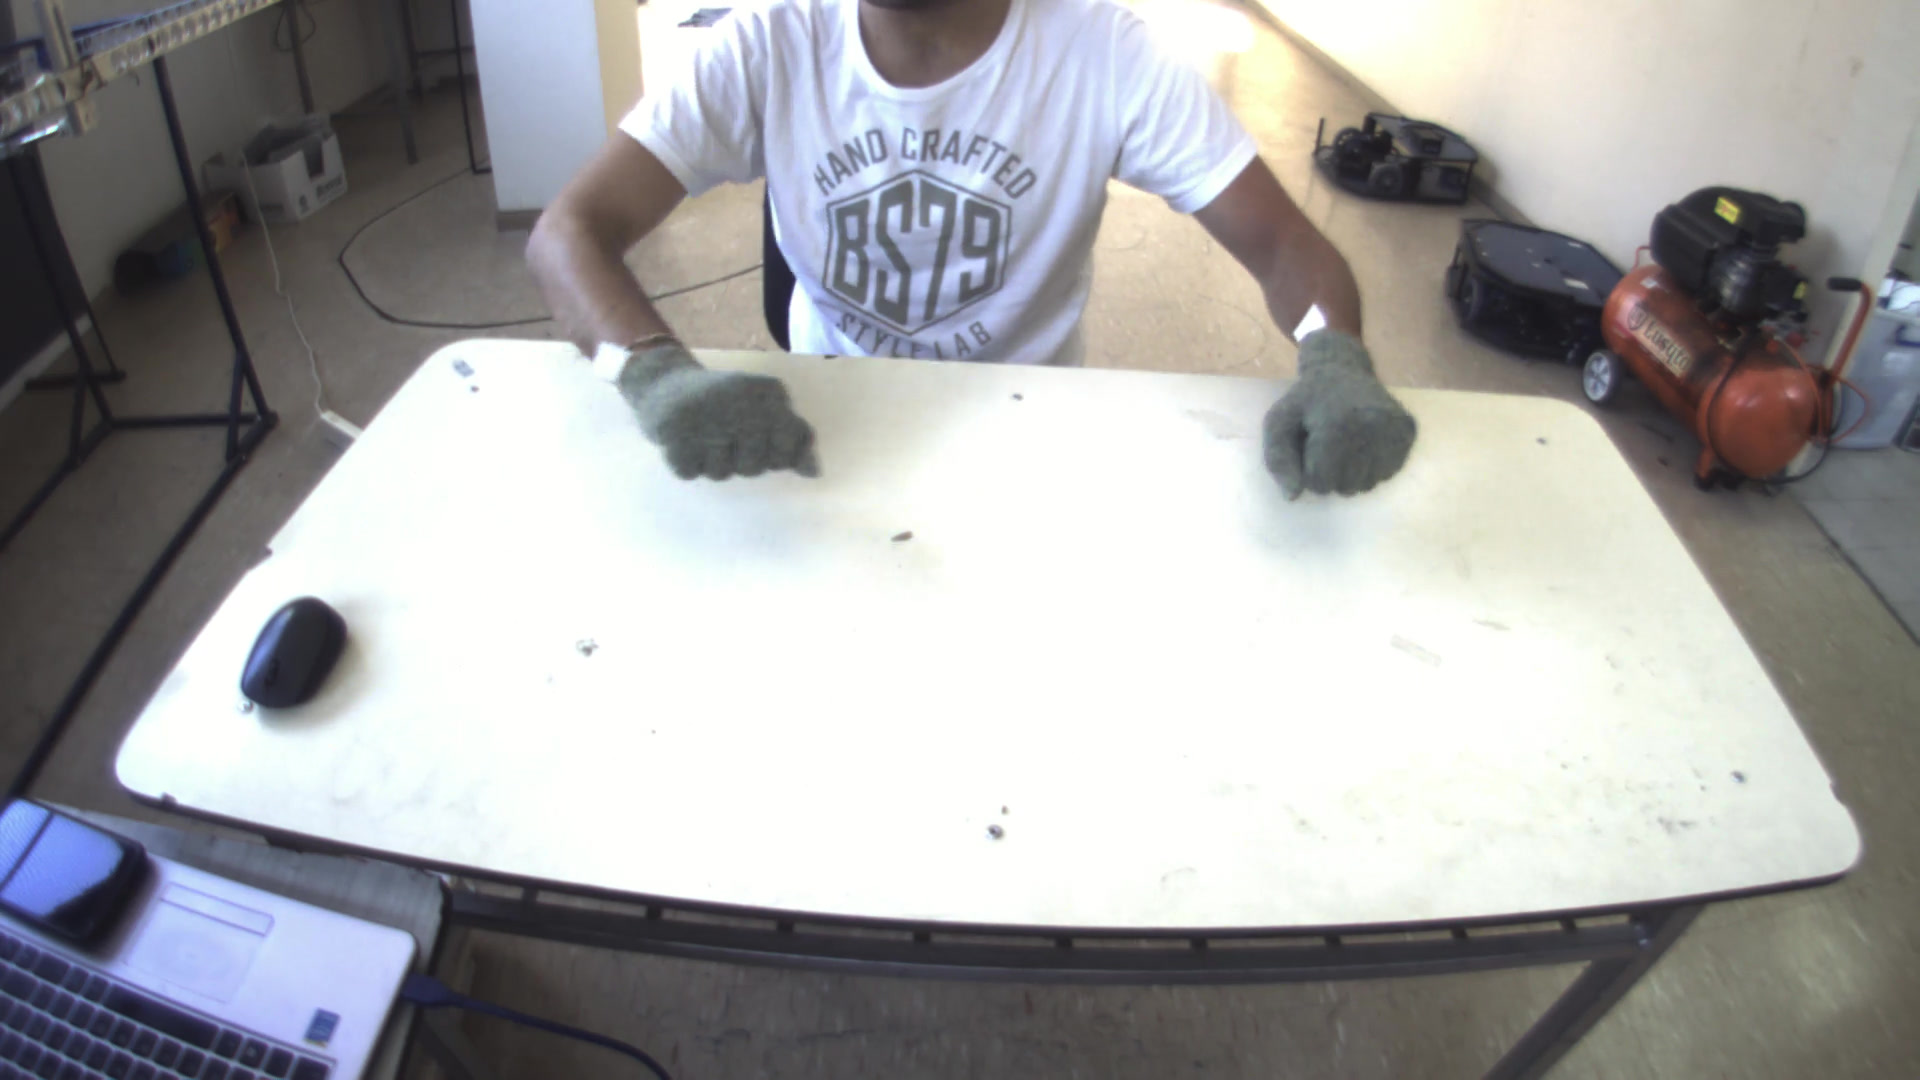hand: (601, 328, 822, 492), (1258, 324, 1436, 509)
